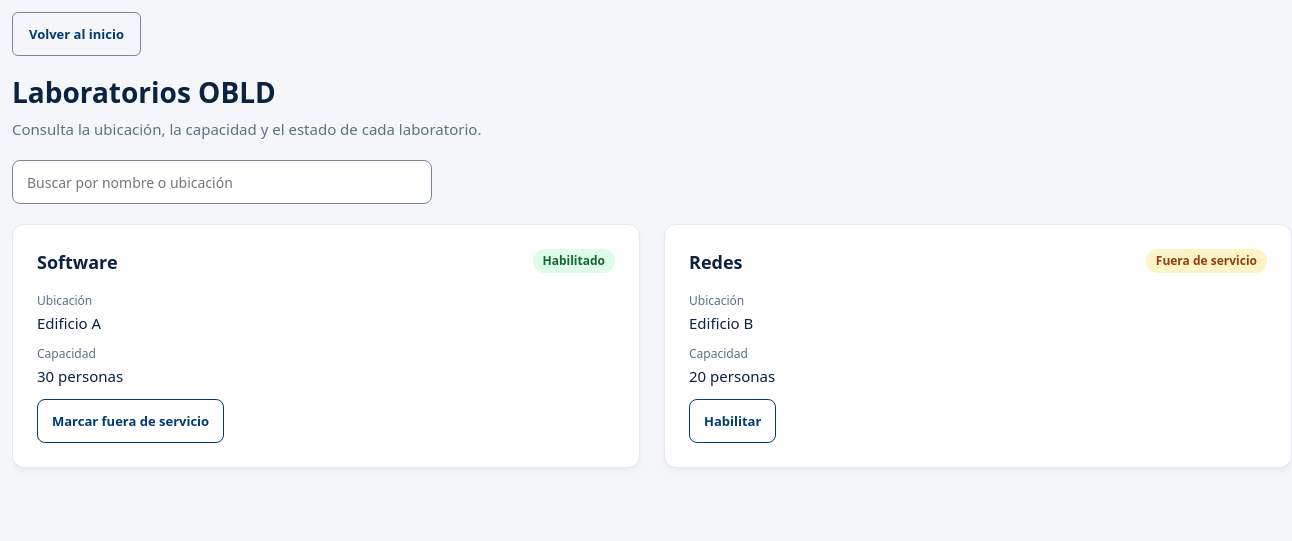
al habilitar un laboratorio fuera de servicio se envía el estado Habilitado
Click the button with aria-label "Habilitar: Redes" at point(733, 421), box [689,399,776,443]
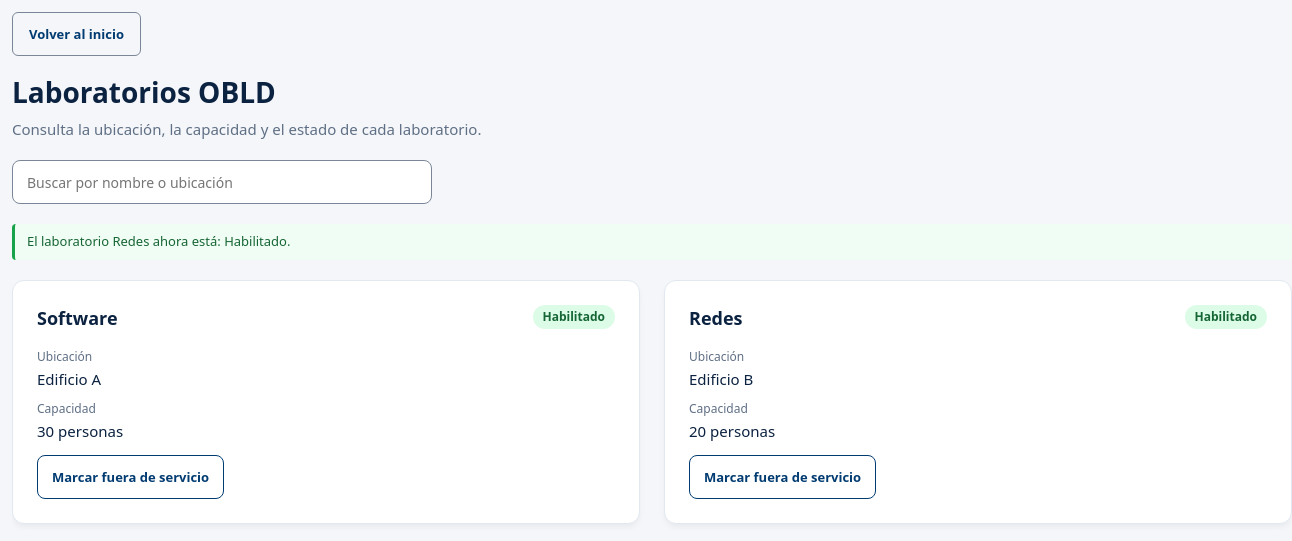
Expected: the message shows "Redes", [27,232,290,250]
Expected: the 2nd text "Habilitado" is shown, [1184,305,1267,329]
